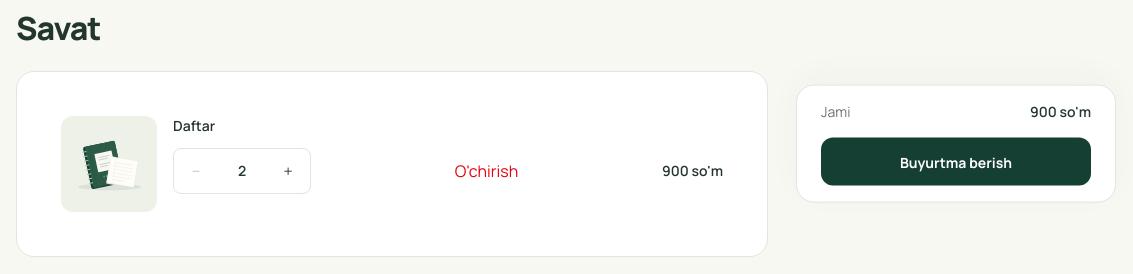
Test: cart page › keeps the rendered quantity unchanged until the server confirms an update
Check: the text "2" is shown, box x1=238 y1=161 x2=246 y2=180
Click the button named "miqdorni oshirish" at (288, 171), box x1=266 y1=149 x2=310 y2=193
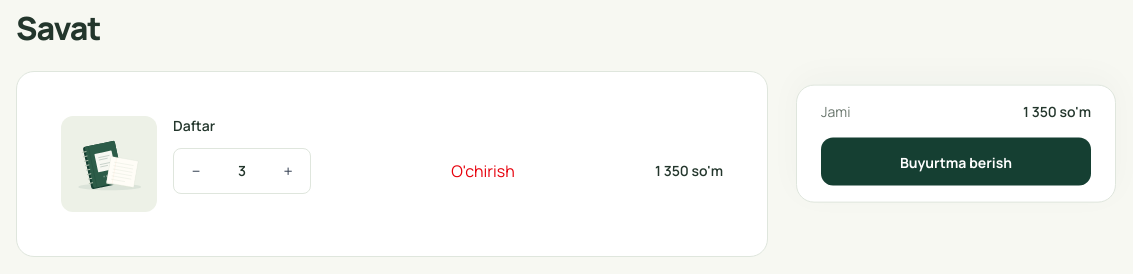
Check: the text "3" is shown, box x1=238 y1=161 x2=246 y2=180
